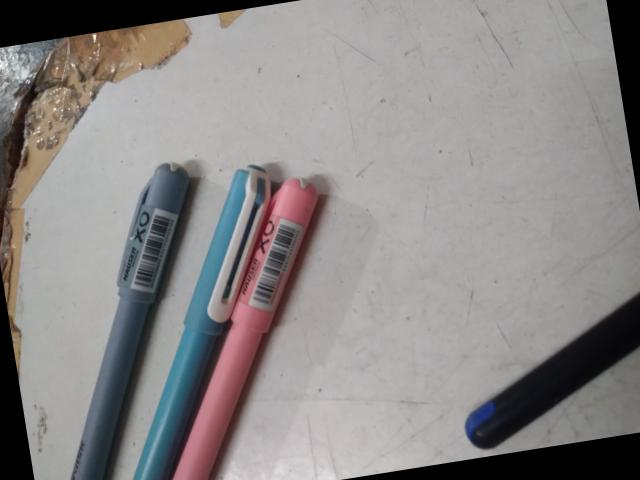PEN: (0, 129, 346, 355), (0, 63, 363, 223), (30, 431, 198, 480)
